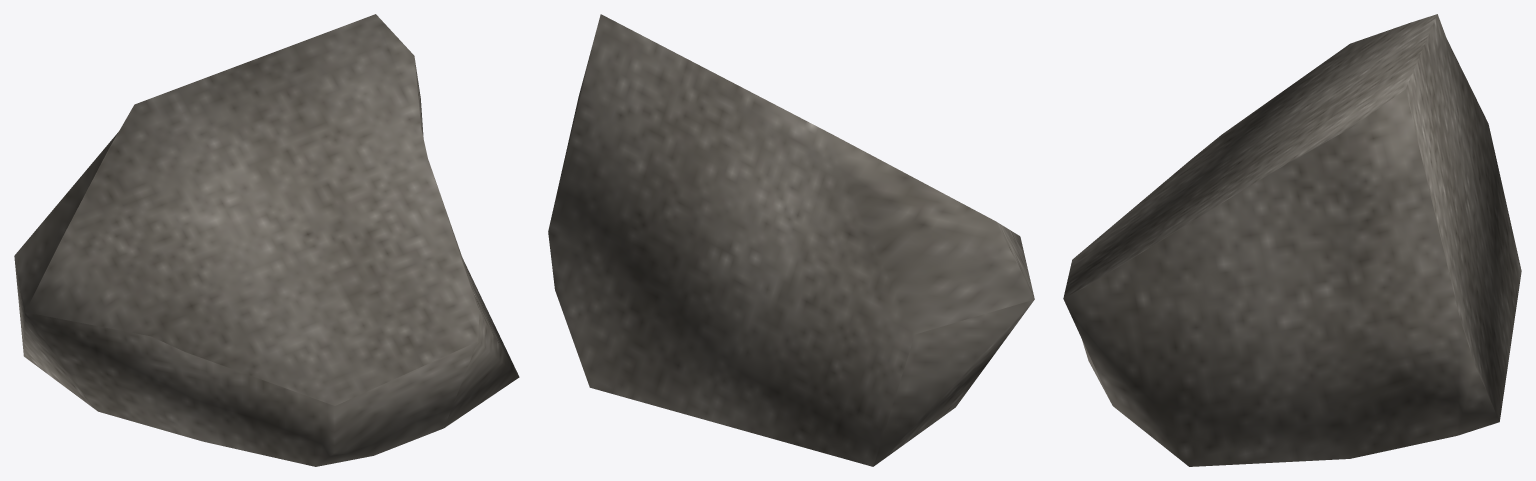
File: rock_spire_3.glb
The picture shows the model from 3 angles, left to right: view 1: azimuth 30°, elevation 25°; view 2: azimuth 150°, elevation 25°; view 3: azimuth 270°, elevation 25°; orthographic projection. The views are drawn at different scales.
Parts seen in each view (by area): view 1: rock_spire_3; view 2: rock_spire_3; view 3: rock_spire_3.
Boxes of the visible parts, x1=… form: rock_spire_3: x1=14, y1=14, x2=519, y2=466; rock_spire_3: x1=548, y1=14, x2=1034, y2=466; rock_spire_3: x1=1063, y1=14, x2=1521, y2=466.
Bounding box in the file's own units: 2.35 × 1.62 × 1.92.
Materials: 1 (1 with a texture image).
